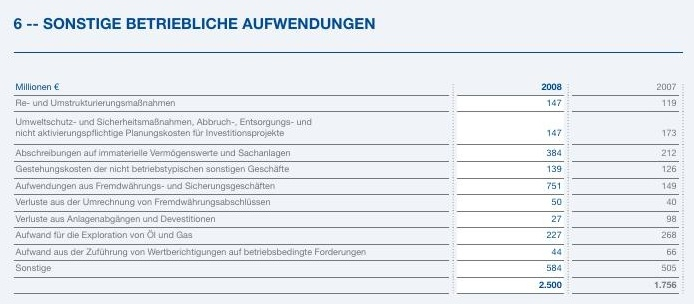table: (0, 0, 694, 304)
